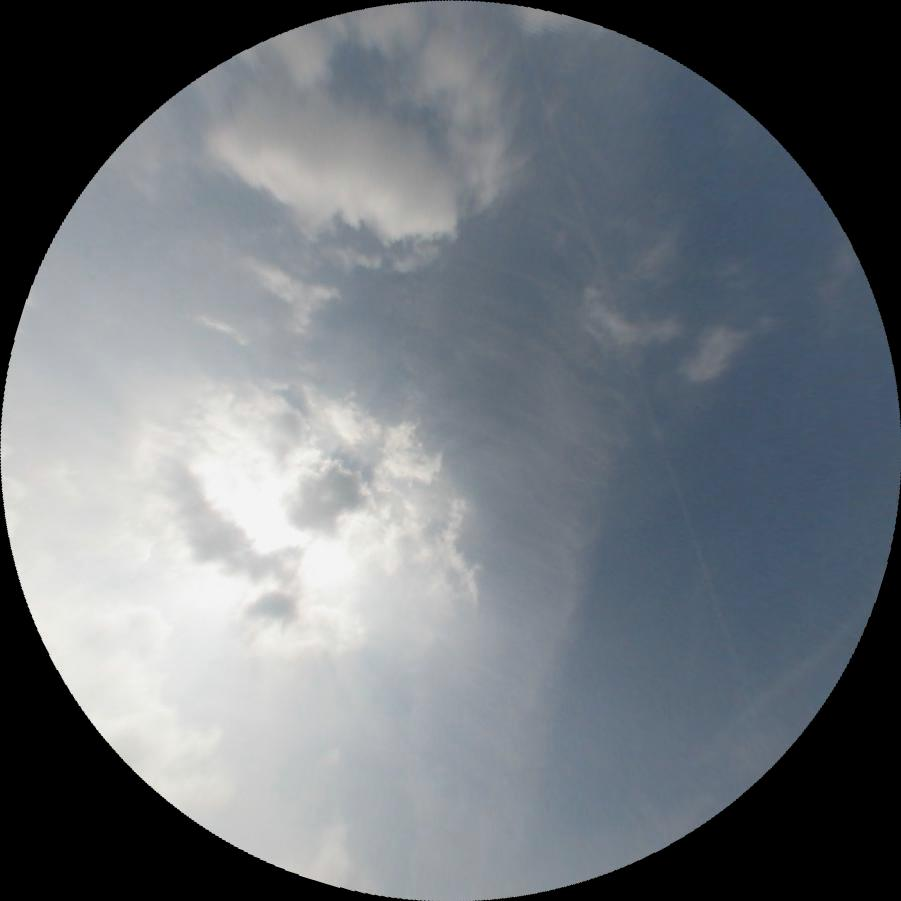contrail young: (509, 3, 760, 723)
sun: (202, 484, 363, 637)
unknow: (714, 617, 857, 752)
